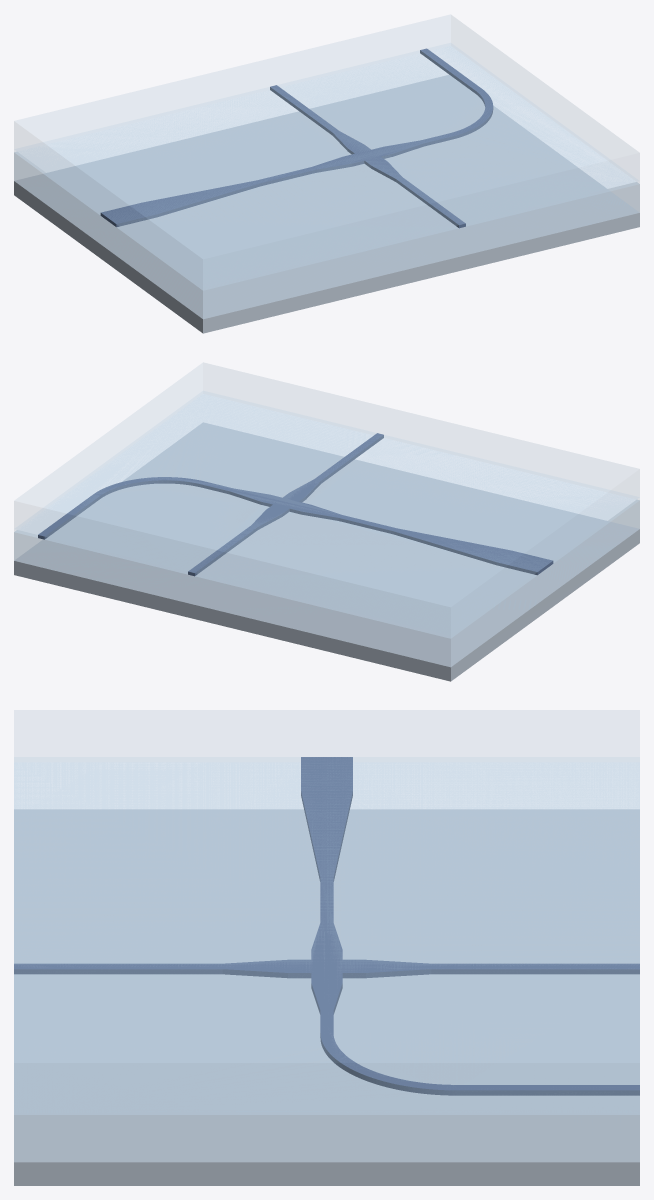
The model's file is stack-routing.glb.
3 renders of one model, top to bottom at view 1: azimuth 30°, elevation 25°; view 2: azimuth 150°, elevation 25°; view 3: azimuth 270°, elevation 25°, orthographic. The views are drawn at different scales.
Parts seen in each view (by area): view 1: cladd, sisub, box, siwg; view 2: cladd, sisub, box, siwg; view 3: cladd, sisub, box, siwg.
Part boxes in pixels (x1,y1,x2,y2): cladd: [14, 15, 639, 289]; sisub: [14, 75, 639, 333]; box: [14, 46, 639, 318]; siwg: [100, 48, 493, 228]; cladd: [14, 363, 639, 637]; sisub: [14, 422, 639, 681]; box: [14, 394, 639, 666]; siwg: [38, 433, 553, 576]; cladd: [14, 710, 639, 1114]; sisub: [14, 809, 639, 1185]; box: [14, 763, 639, 1161]; siwg: [14, 757, 639, 1095].
Bounding box in the file's own units: 32 × 5.2 × 24.
